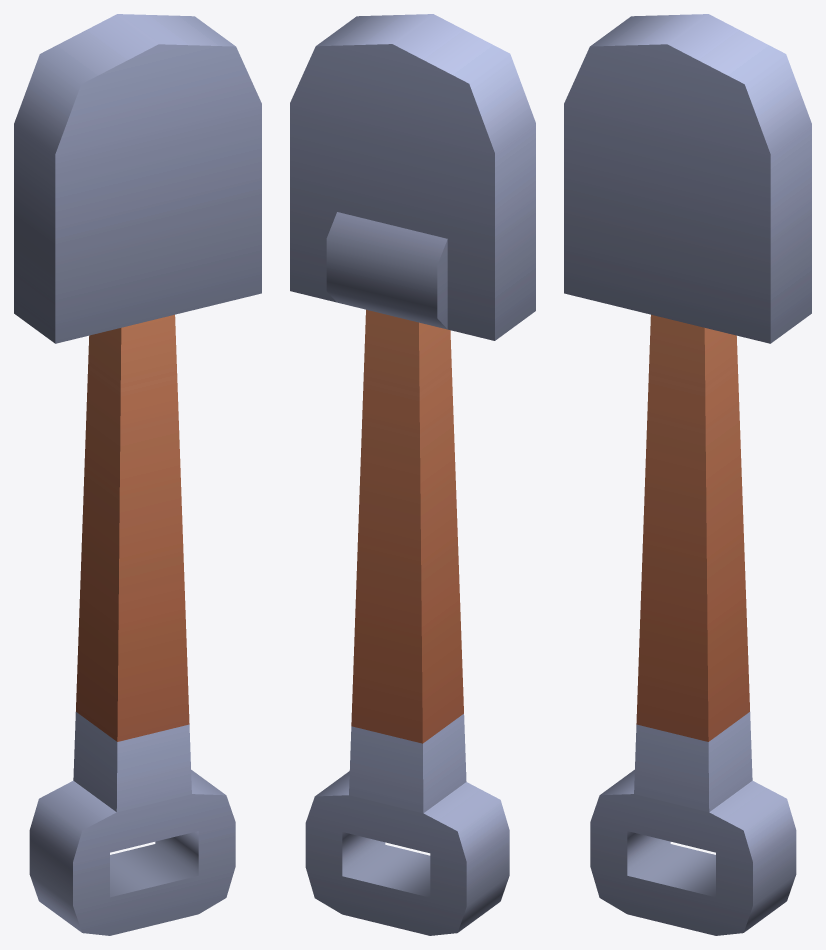
Rendered from survival_shovel.glb.
3 renders of one model, left to right at view 1: azimuth 30°, elevation 25°; view 2: azimuth 150°, elevation 25°; view 3: azimuth 330°, elevation 25°, orthographic.
Parts seen in each view (by area): view 1: tool-shovel; view 2: tool-shovel; view 3: tool-shovel.
Part boxes in pixels (x1=…): tool-shovel: x1=14, y1=14, x2=261, y2=935; tool-shovel: x1=290, y1=14, x2=535, y2=935; tool-shovel: x1=564, y1=14, x2=811, y2=935.
Bounding box in the file's own units: 0.0709 × 0.29 × 0.0309.
Materials: 1 (1 with a texture image).
